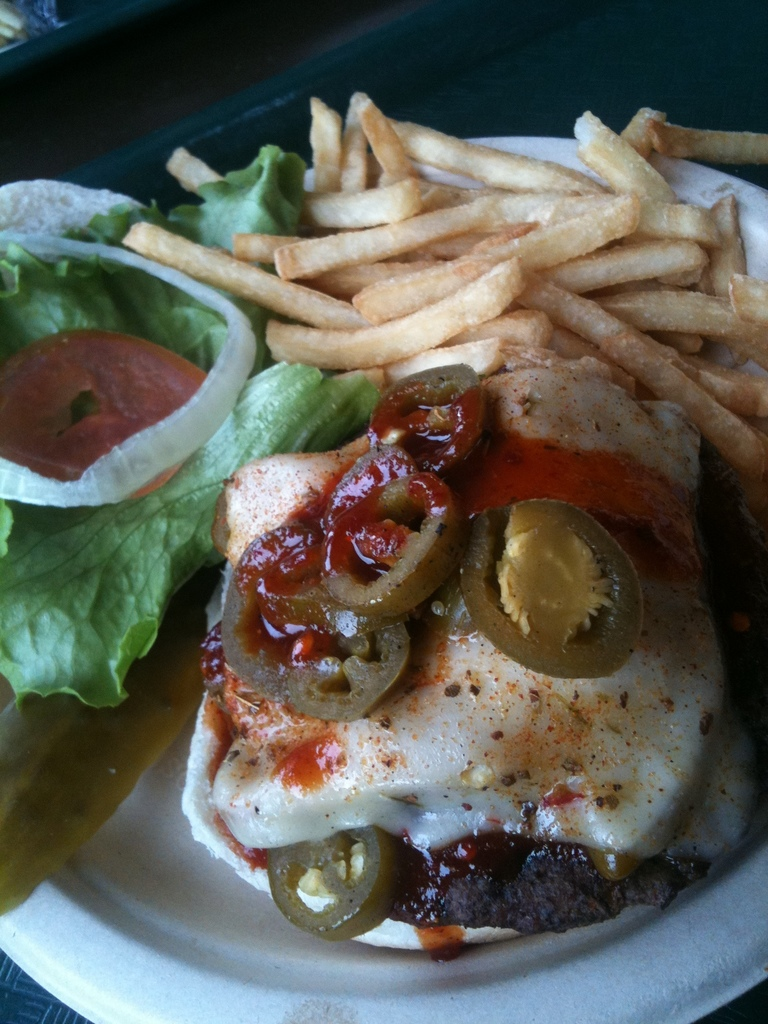French fries: (140, 98, 761, 437)
